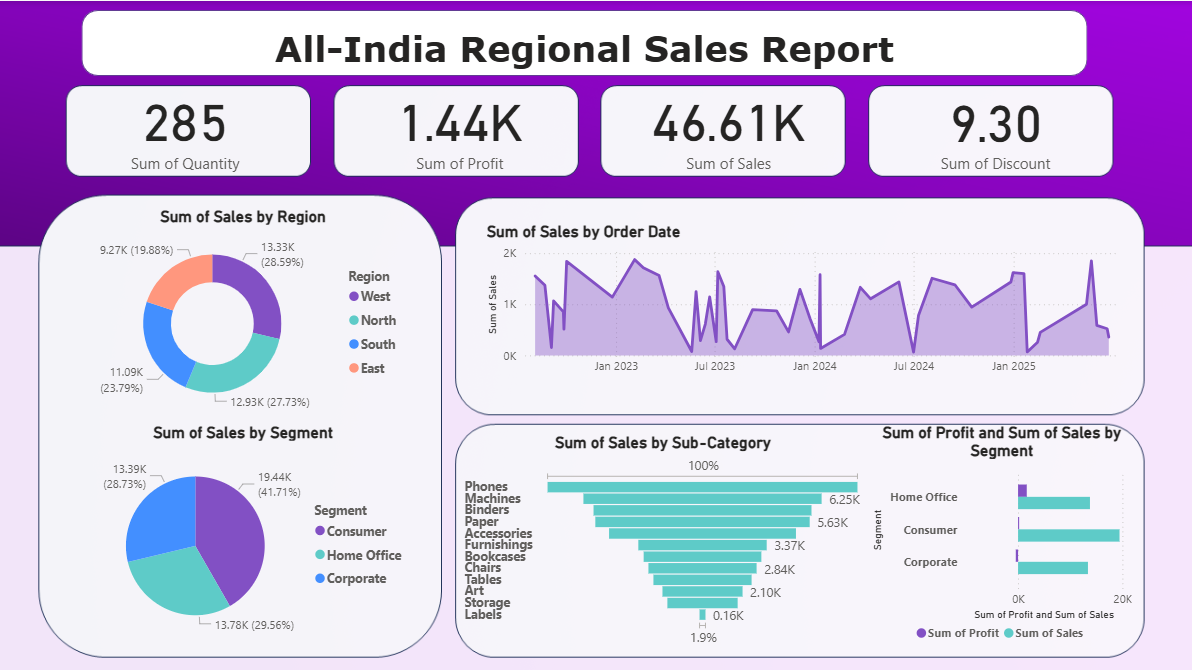

The dashboard page shown, as its layout file describes it:
{"tool":"powerbi","page":{"name":"Page 1","canvas":[1280,720],"ordinal":0},"visuals":[{"type":"donutChart","fields":{"Category":["Sheet1.Region"],"Y":["Sum(Sheet1.Sales)"]},"box":[88.3,218.3,365,228.3],"z":0},{"type":"funnel","fields":{"Category":["Sheet1.Sub-Category"],"Y":["Sum(Sheet1.Sales)"]},"box":[501.7,458.3,431.7,230],"z":1},{"type":"pieChart","fields":{"Category":["Sheet1.Segment"],"Y":["Sum(Sheet1.Sales)"]},"box":[88.3,446.7,365,241.7],"z":3},{"type":"areaChart","fields":{"Category":["Sheet1.Order Date"],"Y":["Sum(Sheet1.Sales)"]},"box":[525,233.3,693.3,171.7],"z":4},{"type":"card","fields":{"Values":["Sum(Sheet1.Sales)"]},"box":[640,76.7,293.3,113.3],"z":5},{"type":"card","fields":{"Values":["Sum(Sheet1.Profit)"]},"box":[396.7,80,210,106.7],"z":6},{"type":"card","fields":{"Values":["Sum(Sheet1.Discount)"]},"box":[971.7,63.3,195,140],"z":7},{"type":"card","fields":{"Values":["Sum(Sheet1.Quantity)"]},"box":[88.3,80,241.7,106.7],"z":8},{"type":"clusteredBarChart","fields":{"Category":["Sheet1.Segment"],"Y":["Sum(Sheet1.Profit)","Sum(Sheet1.Sales)"]},"box":[933.3,446.7,285,241.7],"z":9},{"type":"shape","box":[100,10,1066.7,70],"z":10},{"type":"textbox","box":[100,21.7,1066.7,58.3],"z":11}]}

Visuals, with their boxes in screenshot pixels (x1, y1, x2, y2), scaled from the page's 1280x720 canvas onto the 1192x670 screenshot:
donutChart - Sheet1.Region x Sum(Sheet1.Sales): {"left": 82, "top": 203, "right": 422, "bottom": 416}
funnel - Sheet1.Sub-Category x Sum(Sheet1.Sales): {"left": 467, "top": 426, "right": 869, "bottom": 641}
pieChart - Sheet1.Segment x Sum(Sheet1.Sales): {"left": 82, "top": 416, "right": 422, "bottom": 641}
areaChart - Sheet1.Order Date x Sum(Sheet1.Sales): {"left": 489, "top": 217, "right": 1135, "bottom": 377}
card - Sum(Sheet1.Sales): {"left": 596, "top": 71, "right": 869, "bottom": 177}
card - Sum(Sheet1.Profit): {"left": 369, "top": 74, "right": 565, "bottom": 174}
card - Sum(Sheet1.Discount): {"left": 905, "top": 59, "right": 1086, "bottom": 189}
card - Sum(Sheet1.Quantity): {"left": 82, "top": 74, "right": 307, "bottom": 174}
clusteredBarChart - Sheet1.Segment x Sum(Sheet1.Profit): {"left": 869, "top": 416, "right": 1135, "bottom": 641}
shape: {"left": 93, "top": 9, "right": 1086, "bottom": 74}
textbox: {"left": 93, "top": 20, "right": 1086, "bottom": 74}
